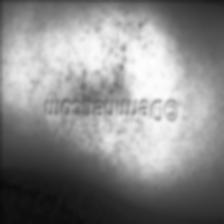Non-Cancerous Skin Condition: (64, 15, 154, 139)
